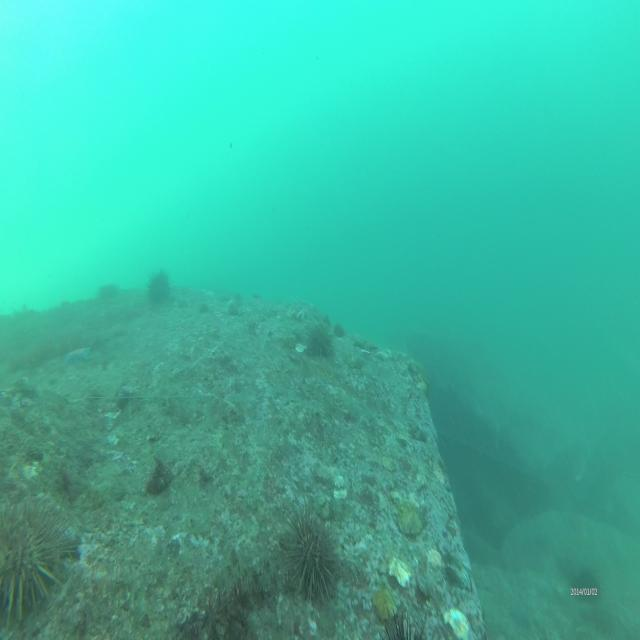echinus: (2, 495, 70, 620), (281, 498, 341, 602), (307, 321, 333, 361), (148, 271, 172, 307)
